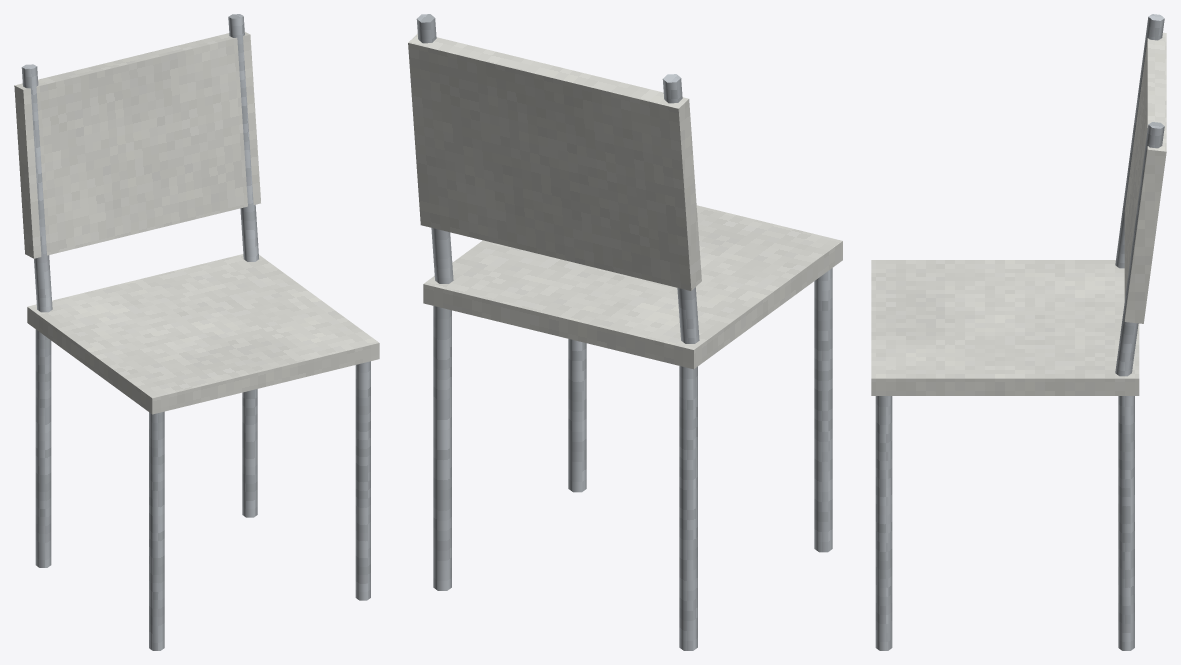
Rendered from tfg_stack_chair.glb.
The picture shows the model from 3 angles, left to right: view 1: azimuth 30°, elevation 25°; view 2: azimuth 150°, elevation 25°; view 3: azimuth 270°, elevation 25°; orthographic projection. The views are drawn at different scales.
Visible parts, largest first — view 1: tfg_stack_chair; view 2: tfg_stack_chair; view 3: tfg_stack_chair.
Part boxes in pixels (<box>): tfg_stack_chair: <box>14,14,379,650</box>; tfg_stack_chair: <box>408,14,842,650</box>; tfg_stack_chair: <box>871,14,1166,650</box>.
Bounding box in the file's own units: 0.44 × 0.9049 × 0.4628.
Materials: 2 (2 with a texture image).
